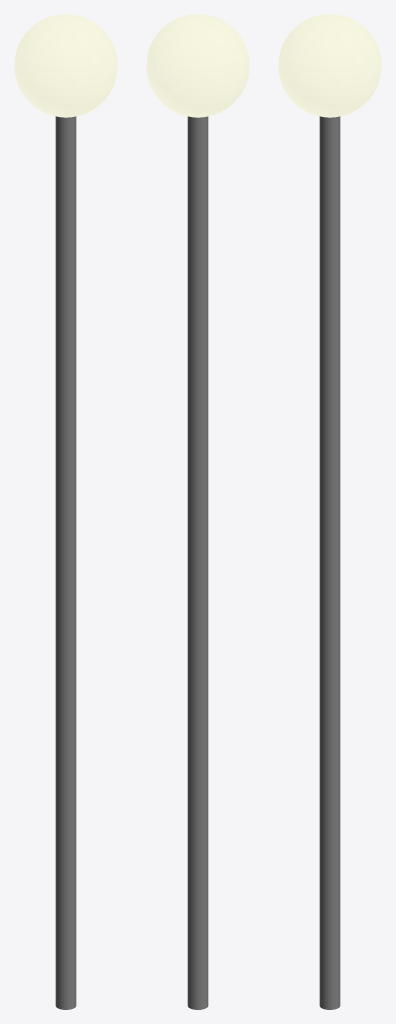
3 views of the same model, side by side, from view 1: azimuth 90°, elevation 25°; view 2: azimuth 150°, elevation 25°; view 3: azimuth 270°, elevation 25° (orthographic).
Parts seen in each view (by area): view 1: StreetlightPole, StreetlightLamp; view 2: StreetlightPole, StreetlightLamp; view 3: StreetlightPole, StreetlightLamp.
Part boxes in pixels (box(x1,y1,x2,y2)): StreetlightPole: box(55, 116, 76, 1009); StreetlightLamp: box(14, 14, 117, 117); StreetlightPole: box(187, 116, 208, 1009); StreetlightLamp: box(146, 14, 249, 117); StreetlightPole: box(319, 116, 340, 1009); StreetlightLamp: box(278, 14, 381, 117).
Size of what is drawn, in the model's own units: 1 by 10.5 by 1.
